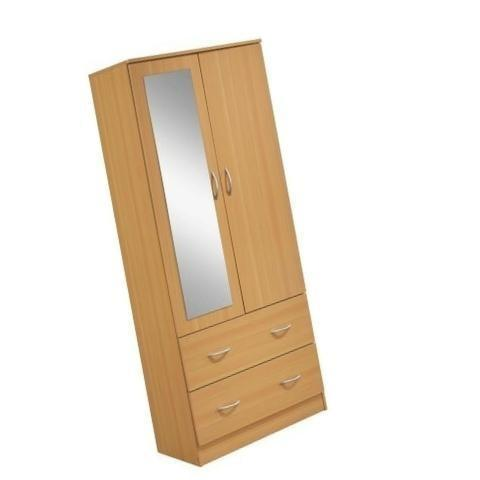Armario: (74, 37, 326, 464)
